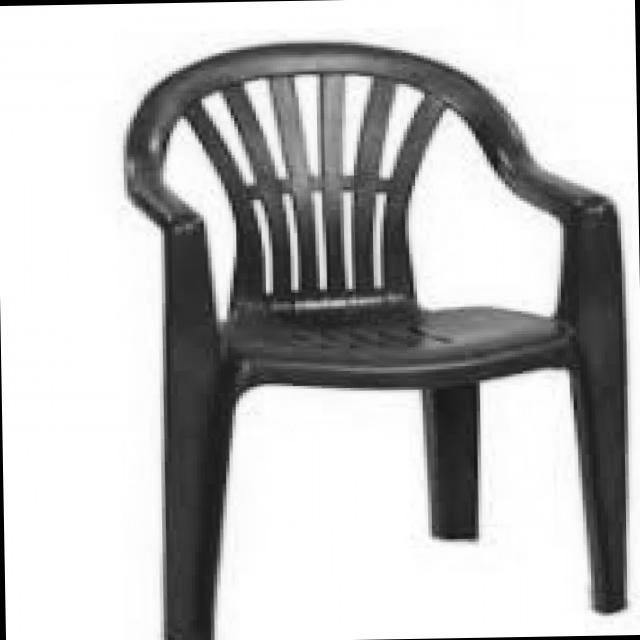chair: (143, 32, 635, 640)
